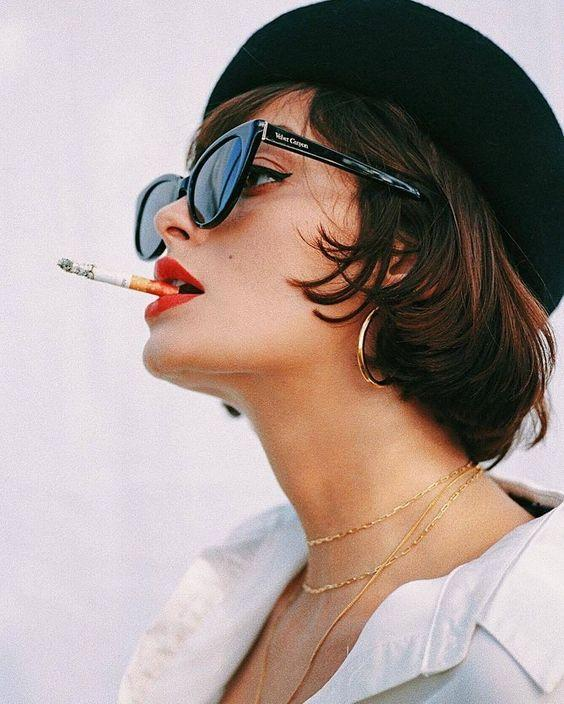cigarette: (56, 257, 180, 296)
